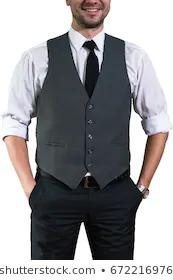F_belt: (33, 168, 133, 185)
F_dress pants: (32, 171, 141, 259)
F_shirt: (2, 25, 171, 184)
F_tie: (81, 38, 99, 93)
